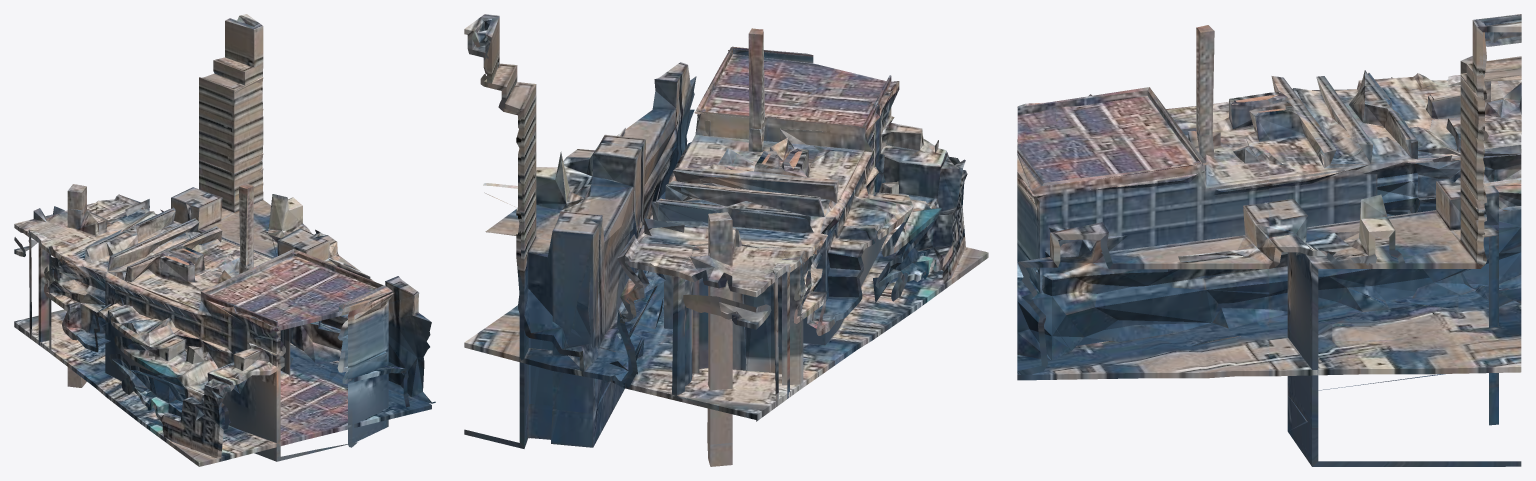
The model's file is chunk_-3_-7.glb.
3 views of the same model, side by side, from view 1: azimuth 30°, elevation 25°; view 2: azimuth 150°, elevation 25°; view 3: azimuth 270°, elevation 25° (orthographic). The views are drawn at different scales.
Visible parts, largest first — view 1: hero-chunk; view 2: hero-chunk; view 3: hero-chunk.
Part boxes in pixels (box(x1,y1,x2,y2)): hero-chunk: box(14, 14, 435, 466); hero-chunk: box(464, 14, 988, 466); hero-chunk: box(1017, 14, 1521, 466).
Size of the model in its own units: 56.34 by 73.56 by 76.33.
4 materials, 4 textured.
